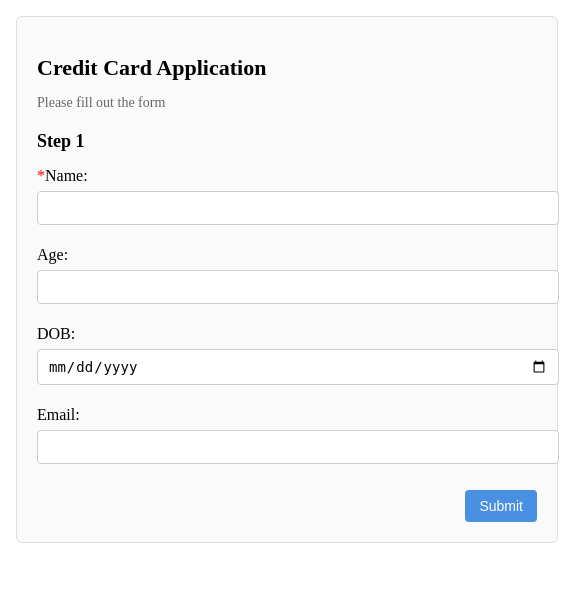
Test case: FormStructure extra coverage › validates regex pattern
The width and height of the screenshot is (576, 600).
Type "bademail" into the field labelled "Email:" at point(298, 447), box [37,430,559,464]
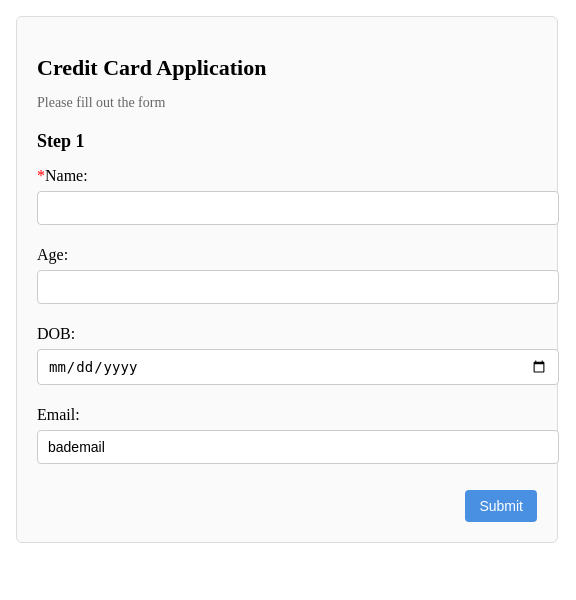
Click the button "Submit" at point(501, 506), box [465,490,537,522]
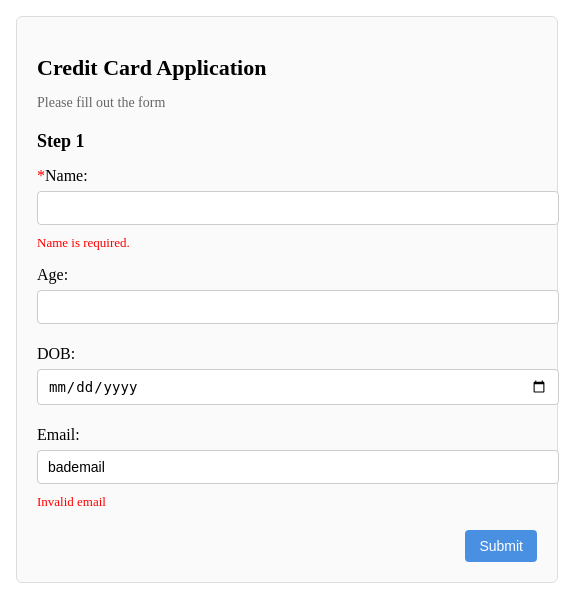
Expected: the text "Invalid email" is shown, [37,494,106,509]
